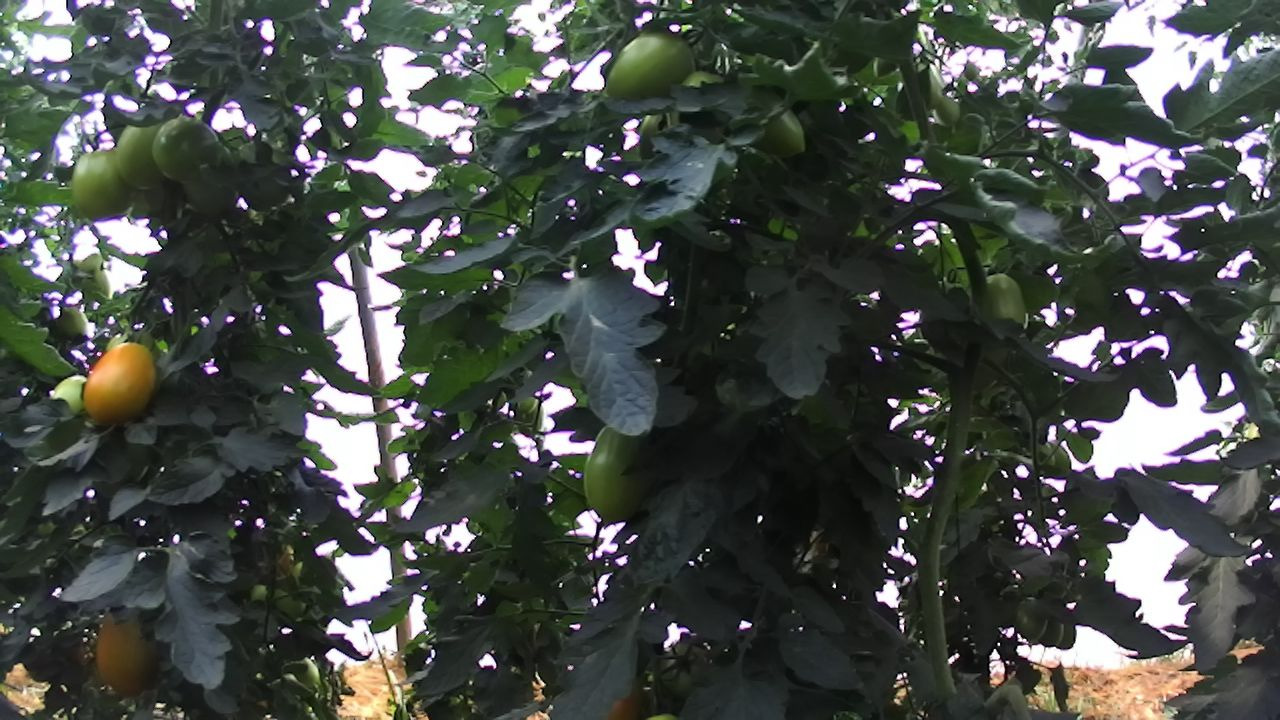tomato: (575, 412, 663, 529), (598, 24, 704, 110), (76, 336, 161, 424), (90, 604, 164, 701), (67, 140, 140, 225), (148, 115, 224, 186), (112, 114, 176, 192)
